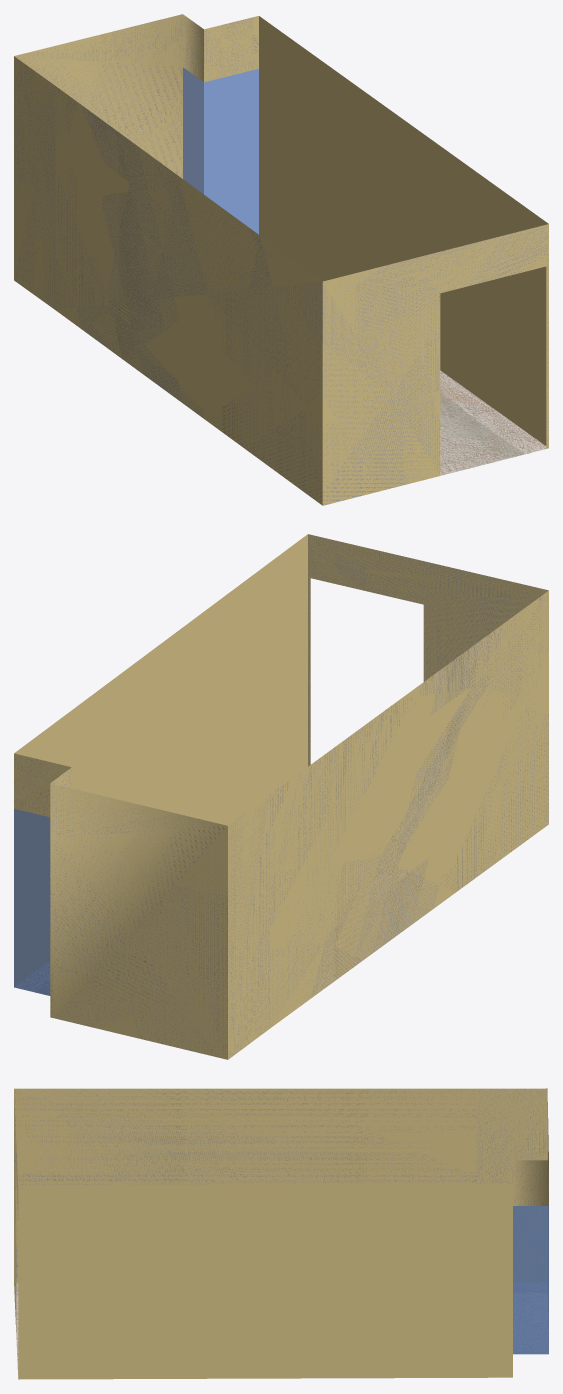
The model's file is SEM018.obj.
3 renders of one model, top to bottom at view 1: azimuth 30°, elevation 25°; view 2: azimuth 150°, elevation 25°; view 3: azimuth 270°, elevation 25°, orthographic. The views are drawn at different scales.
Visible parts, largest first — view 1: Mesh1 SEM018 Model; view 2: Mesh1 SEM018 Model; view 3: Mesh1 SEM018 Model.
Boxes of the visible parts, left/top/right/bottom form: Mesh1 SEM018 Model: left=14, top=14, right=548, bottom=505; Mesh1 SEM018 Model: left=14, top=534, right=548, bottom=1059; Mesh1 SEM018 Model: left=14, top=1088, right=548, bottom=1379.
Bounding box in the file's own units: 3.85 × 3.6 × 8.99.
Materials: 5 (2 with a texture image).
